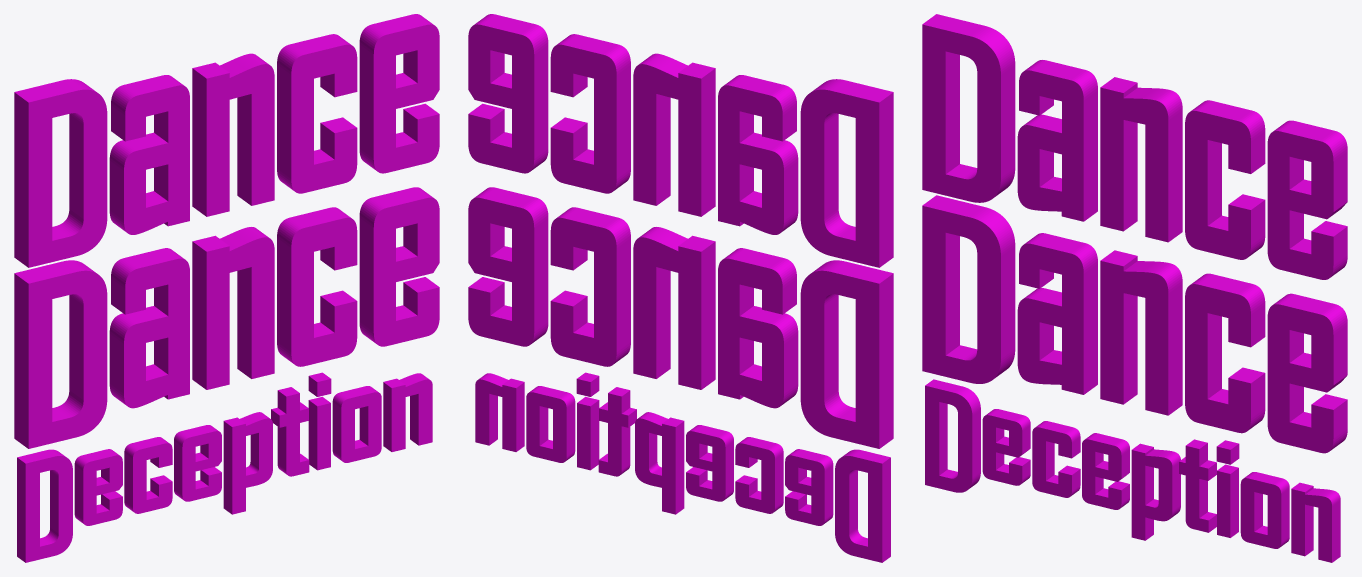
Rendered from DDD_Title.fbx.
The picture shows the model from 3 angles, left to right: view 1: azimuth 30°, elevation 25°; view 2: azimuth 150°, elevation 25°; view 3: azimuth 330°, elevation 25°; orthographic projection.
Visible parts, largest first — view 1: Text; view 2: Text; view 3: Text.
Part boxes in pixels (<box>): Text: <box>14,14,439,562</box>; Text: <box>468,14,893,562</box>; Text: <box>922,14,1347,562</box>.
Size of the model in its own units: 1.66 by 1.79 by 0.1.
